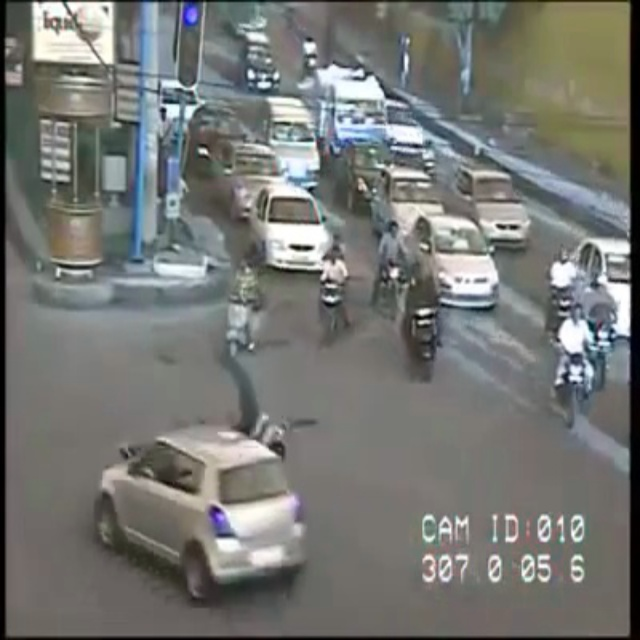acc: (80, 376, 328, 603)
